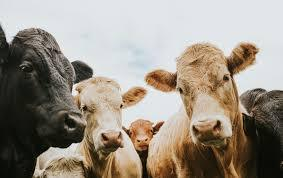cow: (148, 40, 260, 178), (0, 29, 93, 178), (33, 75, 147, 178), (239, 88, 283, 178), (121, 117, 169, 151)
